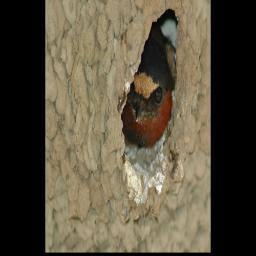Swallow: (121, 24, 173, 149)
